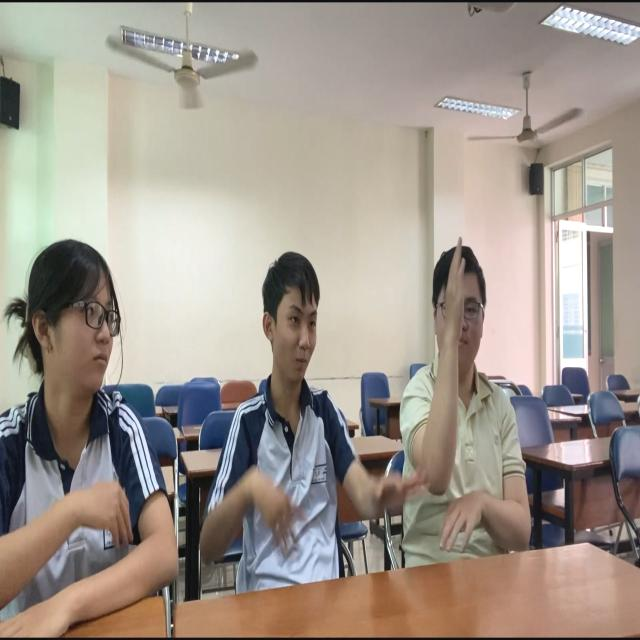raise_hand: (406, 236, 539, 586)
